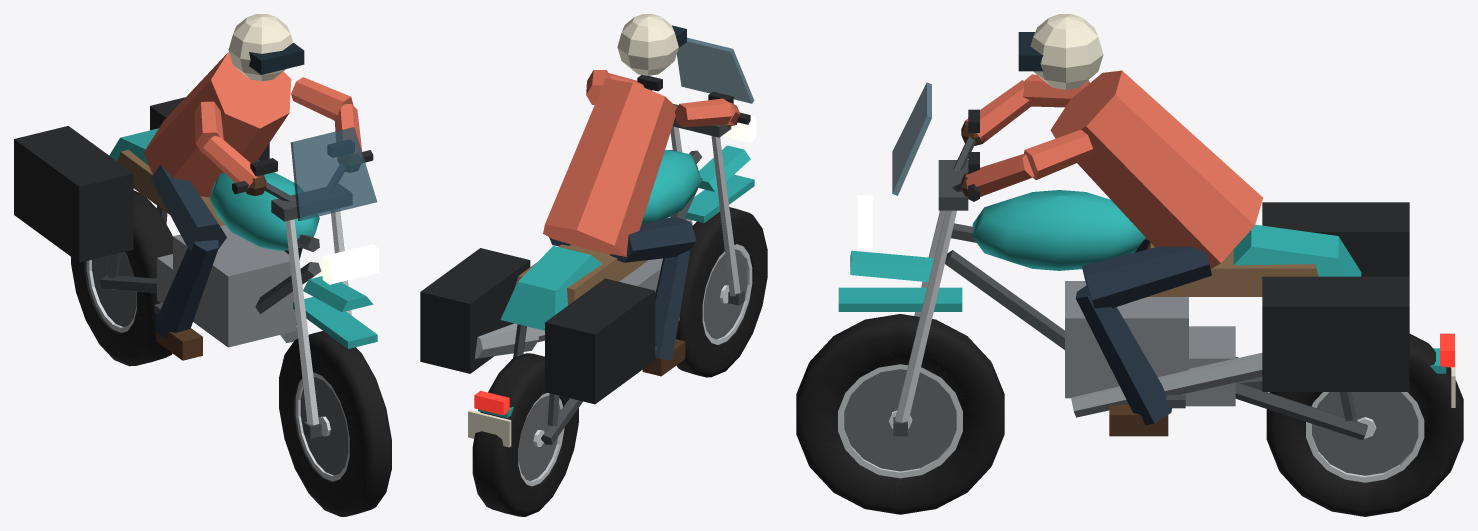
The model's file is hawk-adventure.glb.
3 renders of one model, left to right at view 1: azimuth 30°, elevation 25°; view 2: azimuth 150°, elevation 25°; view 3: azimuth 270°, elevation 25°, orthographic. The views are drawn at different scales.
Parts seen in each view (by area): view 1: frame, rider, wheel_F, fork, wheel_R, headlight; view 2: frame, rider, wheel_F, wheel_R, fork, plate_R, taillight, headlight; view 3: frame, rider, wheel_F, wheel_R, fork, headlight.
Part boxes in pixels (x1,y1,x2,y2): frame: [14, 97, 321, 347]; rider: [143, 14, 362, 360]; wheel_F: [279, 331, 391, 516]; fork: [232, 127, 377, 438]; wheel_R: [71, 190, 172, 366]; headlight: [322, 244, 379, 284]; frame: [420, 150, 702, 444]; rider: [543, 14, 740, 376]; wheel_F: [676, 207, 767, 377]; wheel_R: [472, 353, 578, 516]; fork: [637, 37, 754, 305]; plate_R: [468, 410, 511, 447]; taillight: [474, 390, 509, 415]; headlight: [722, 115, 756, 142]; frame: [945, 190, 1446, 440]; rider: [961, 14, 1262, 436]; wheel_F: [796, 314, 1004, 514]; wheel_R: [1266, 334, 1463, 516]; fork: [838, 82, 979, 436]; headlight: [857, 195, 872, 249].
Size of the model in its own units: 0.8398 by 1.85 by 2.27.
